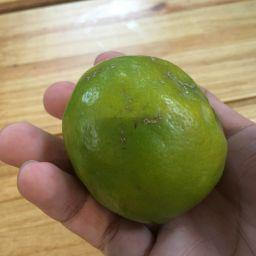Unripe: (63, 55, 227, 223)
